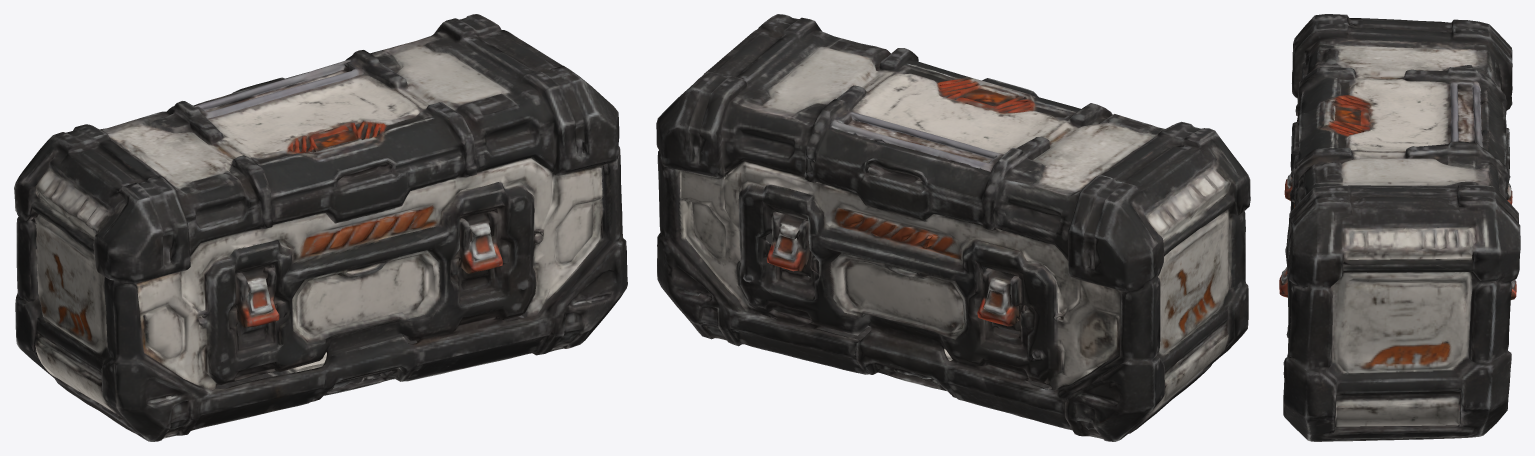
The model's file is relay_cargo.glb.
3 views of the same model, side by side, from view 1: azimuth 30°, elevation 25°; view 2: azimuth 150°, elevation 25°; view 3: azimuth 270°, elevation 25° (orthographic). The views are drawn at different scales.
Parts seen in each view (by area): view 1: Prop; view 2: Prop; view 3: Prop.
Part boxes in pixels (x1=…): Prop: x1=14, y1=14, x2=627, y2=441; Prop: x1=656, y1=14, x2=1250, y2=441; Prop: x1=1279, y1=14, x2=1520, y2=441.
Bounding box in the file's own units: 1.52 × 0.76 × 0.6668.
1 material, 1 textured.
